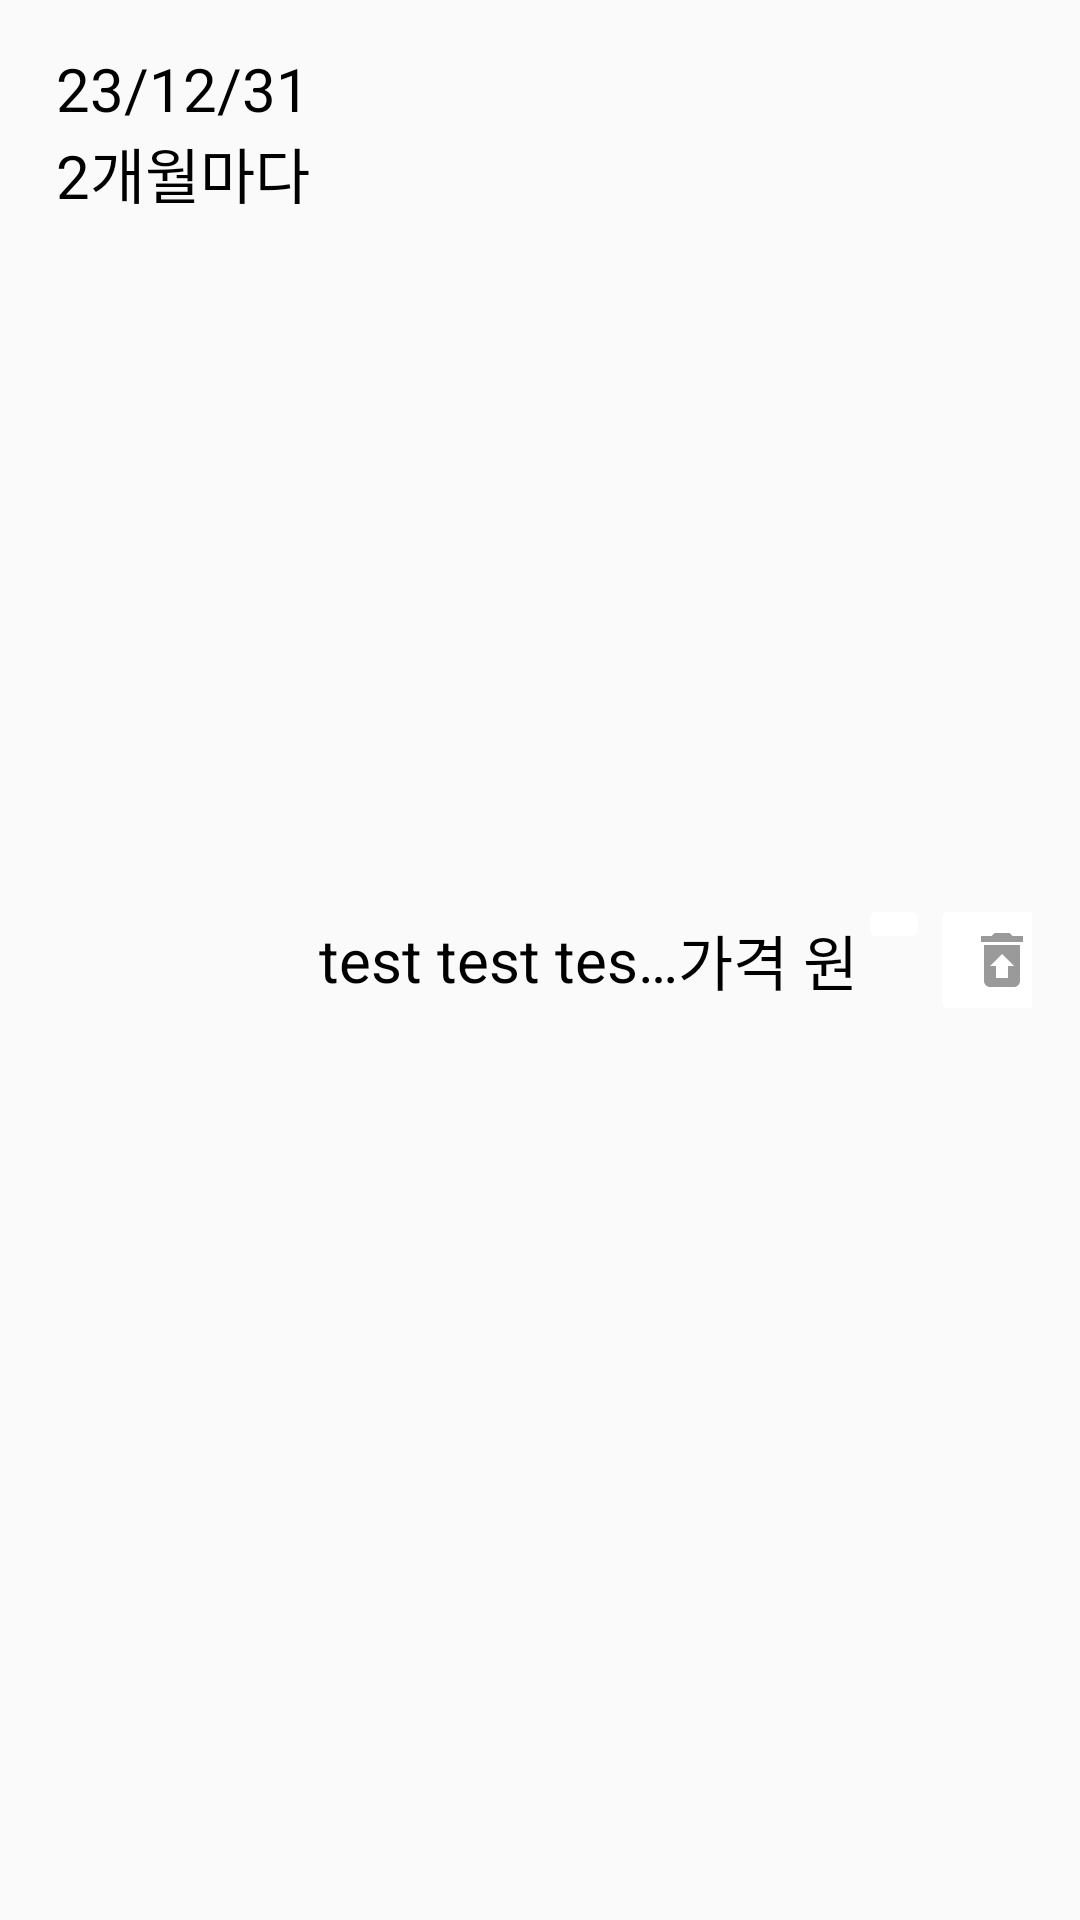

Icons on this 1080*1920 Android screen, each with the point to tap as [x,y]:
restore from trash: [1002,960]
